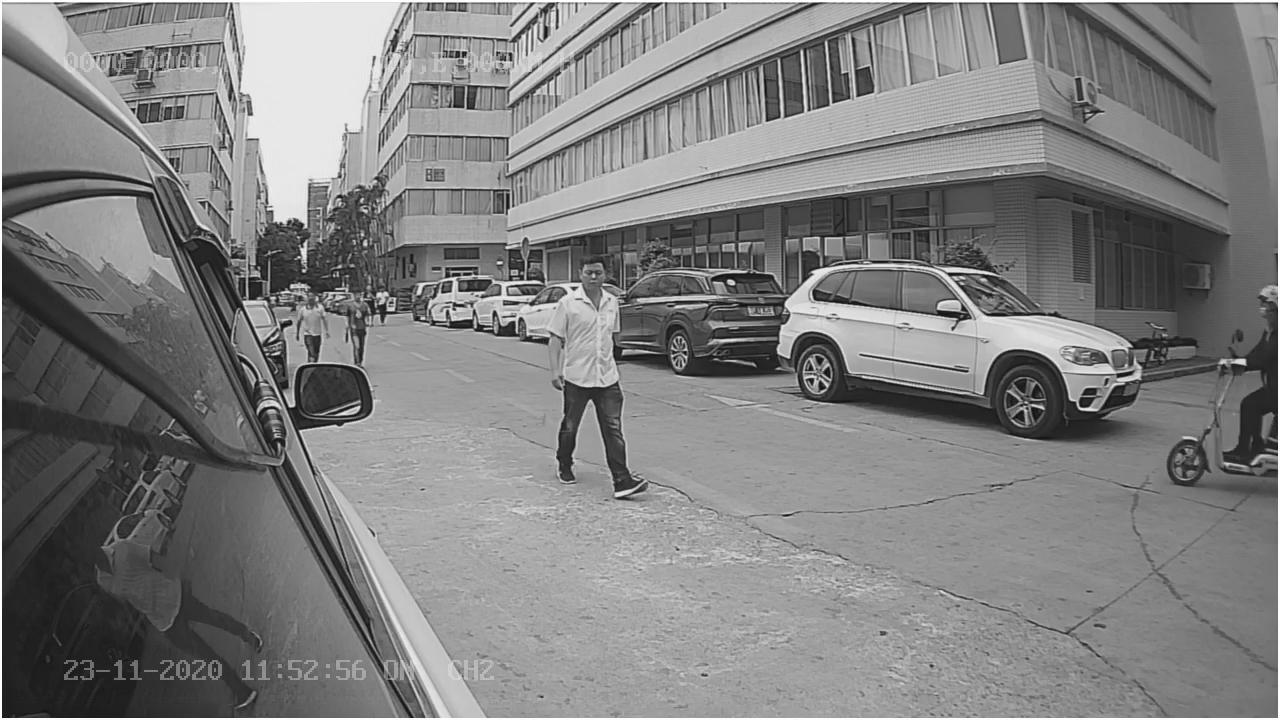person: (546, 250, 641, 496)
